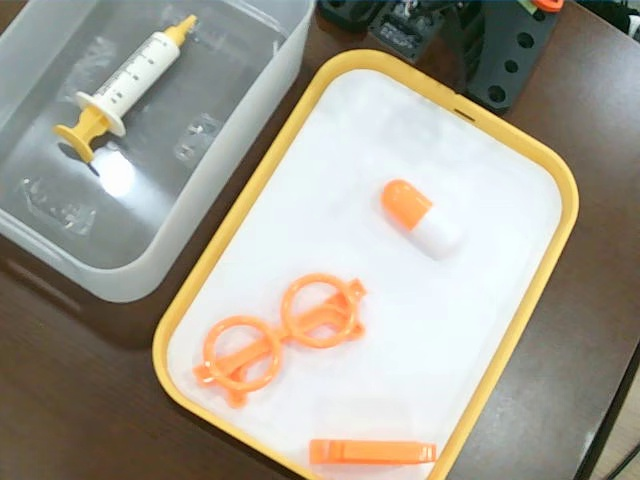pill: (379, 178, 463, 261)
syringe: (55, 12, 198, 163)
